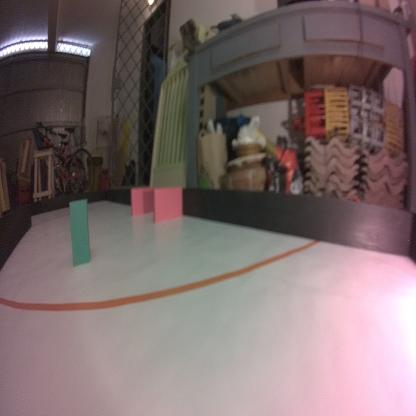green: (67, 195, 91, 269)
magenta: (152, 186, 182, 226), (130, 186, 156, 217)
